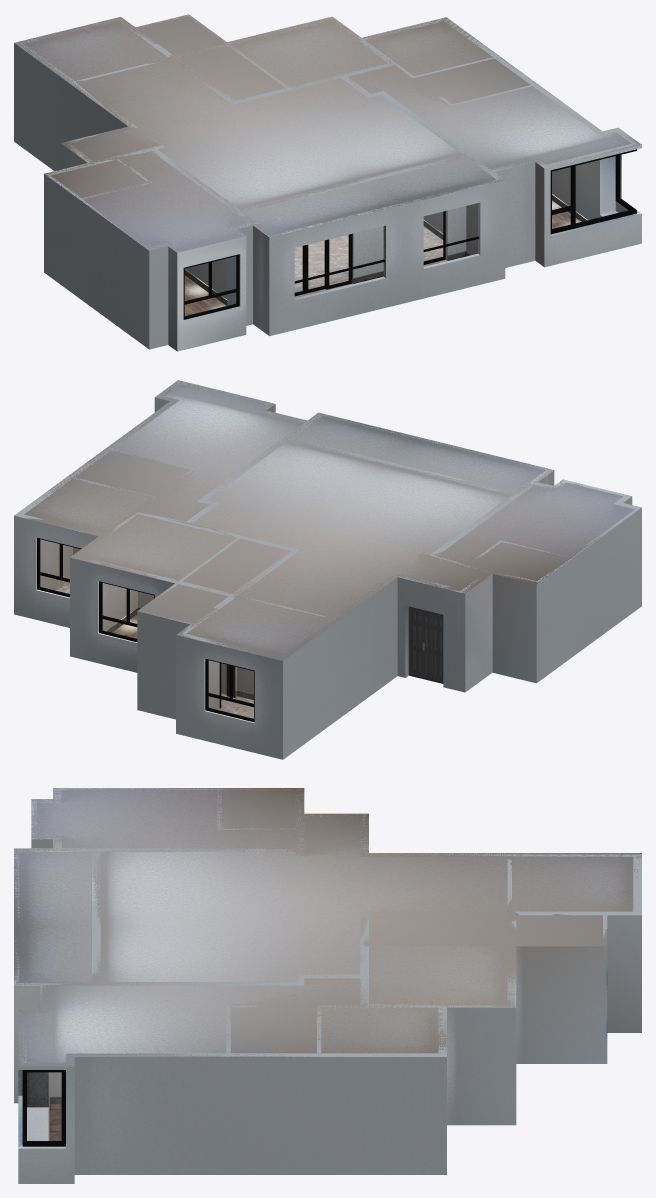
The picture shows the model from 3 angles, top to bottom: view 1: azimuth 30°, elevation 25°; view 2: azimuth 150°, elevation 25°; view 3: azimuth 270°, elevation 25°; orthographic projection. The views are drawn at different scales.
Parts seen in each view (by area): view 1: woshi; view 2: woshi; view 3: woshi.
Part boxes in pixels (x1,y1,x2,y2): woshi: [14, 14, 641, 351]; woshi: [14, 380, 641, 759]; woshi: [14, 788, 641, 1183].
Bounding box in the file's own units: 15.2 × 3 × 14.5.
1 material, 1 textured.
